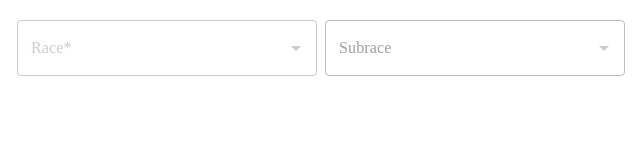
Test: CharacterRaceFields › filters race options as the user types
Step 1. Type "hum" into the dropdown labelled "Race*" → (152, 48), box x1=26 y1=29 x2=278 y2=67
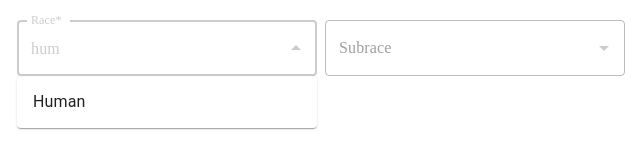
Expected: the option "Human" is shown, x1=33 y1=92 x2=86 y2=111
Expected: the option "Elf" is gone
